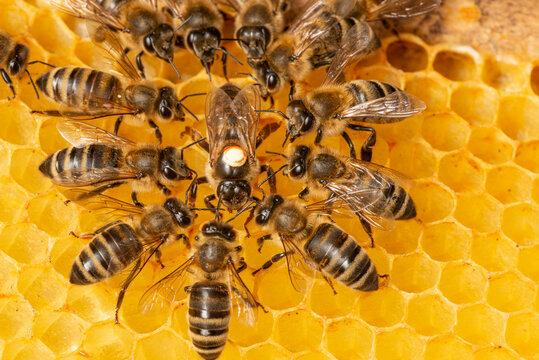Queen-Bee: (205, 82, 263, 210)
worker-bee: (284, 24, 425, 160), (142, 214, 264, 359), (69, 195, 195, 319), (39, 121, 191, 206), (254, 194, 378, 291), (281, 145, 415, 233), (36, 58, 182, 124), (51, 0, 175, 73)
